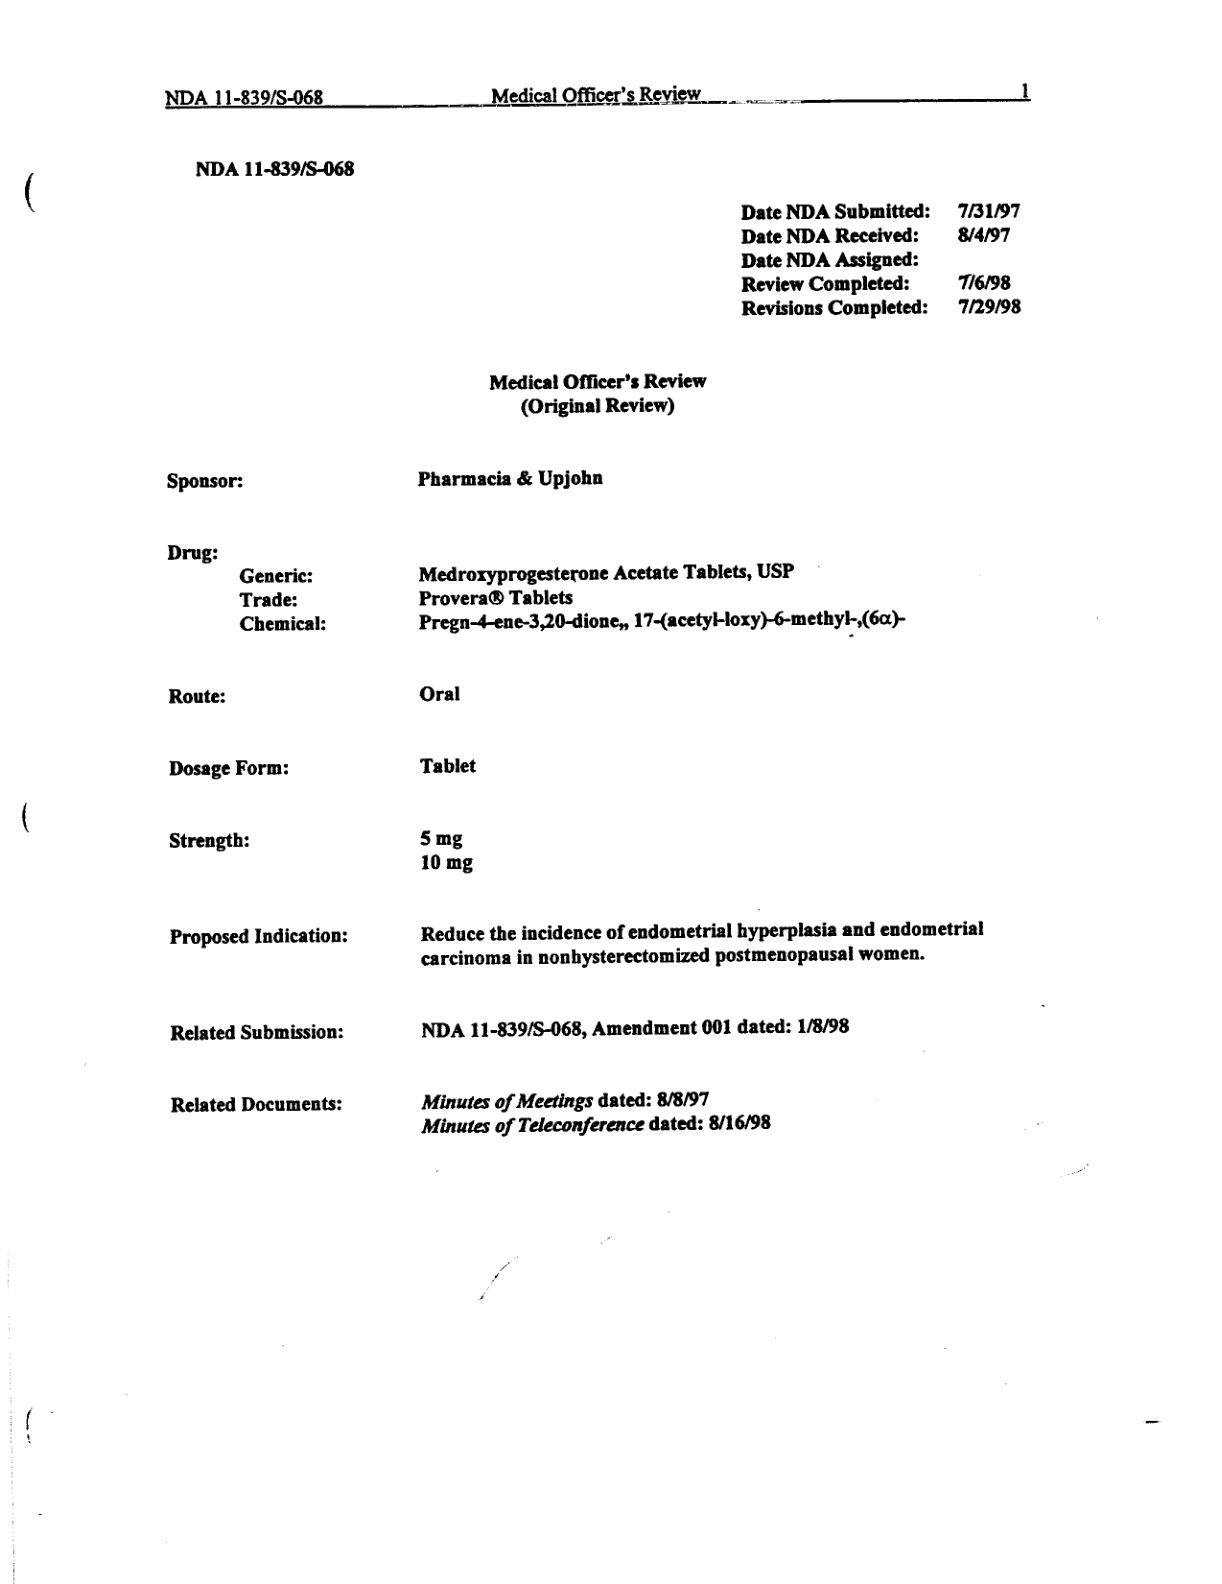nolines: (163, 469, 987, 1139), (739, 202, 1024, 320)
